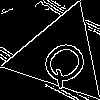Q: (35, 30, 100, 92)
